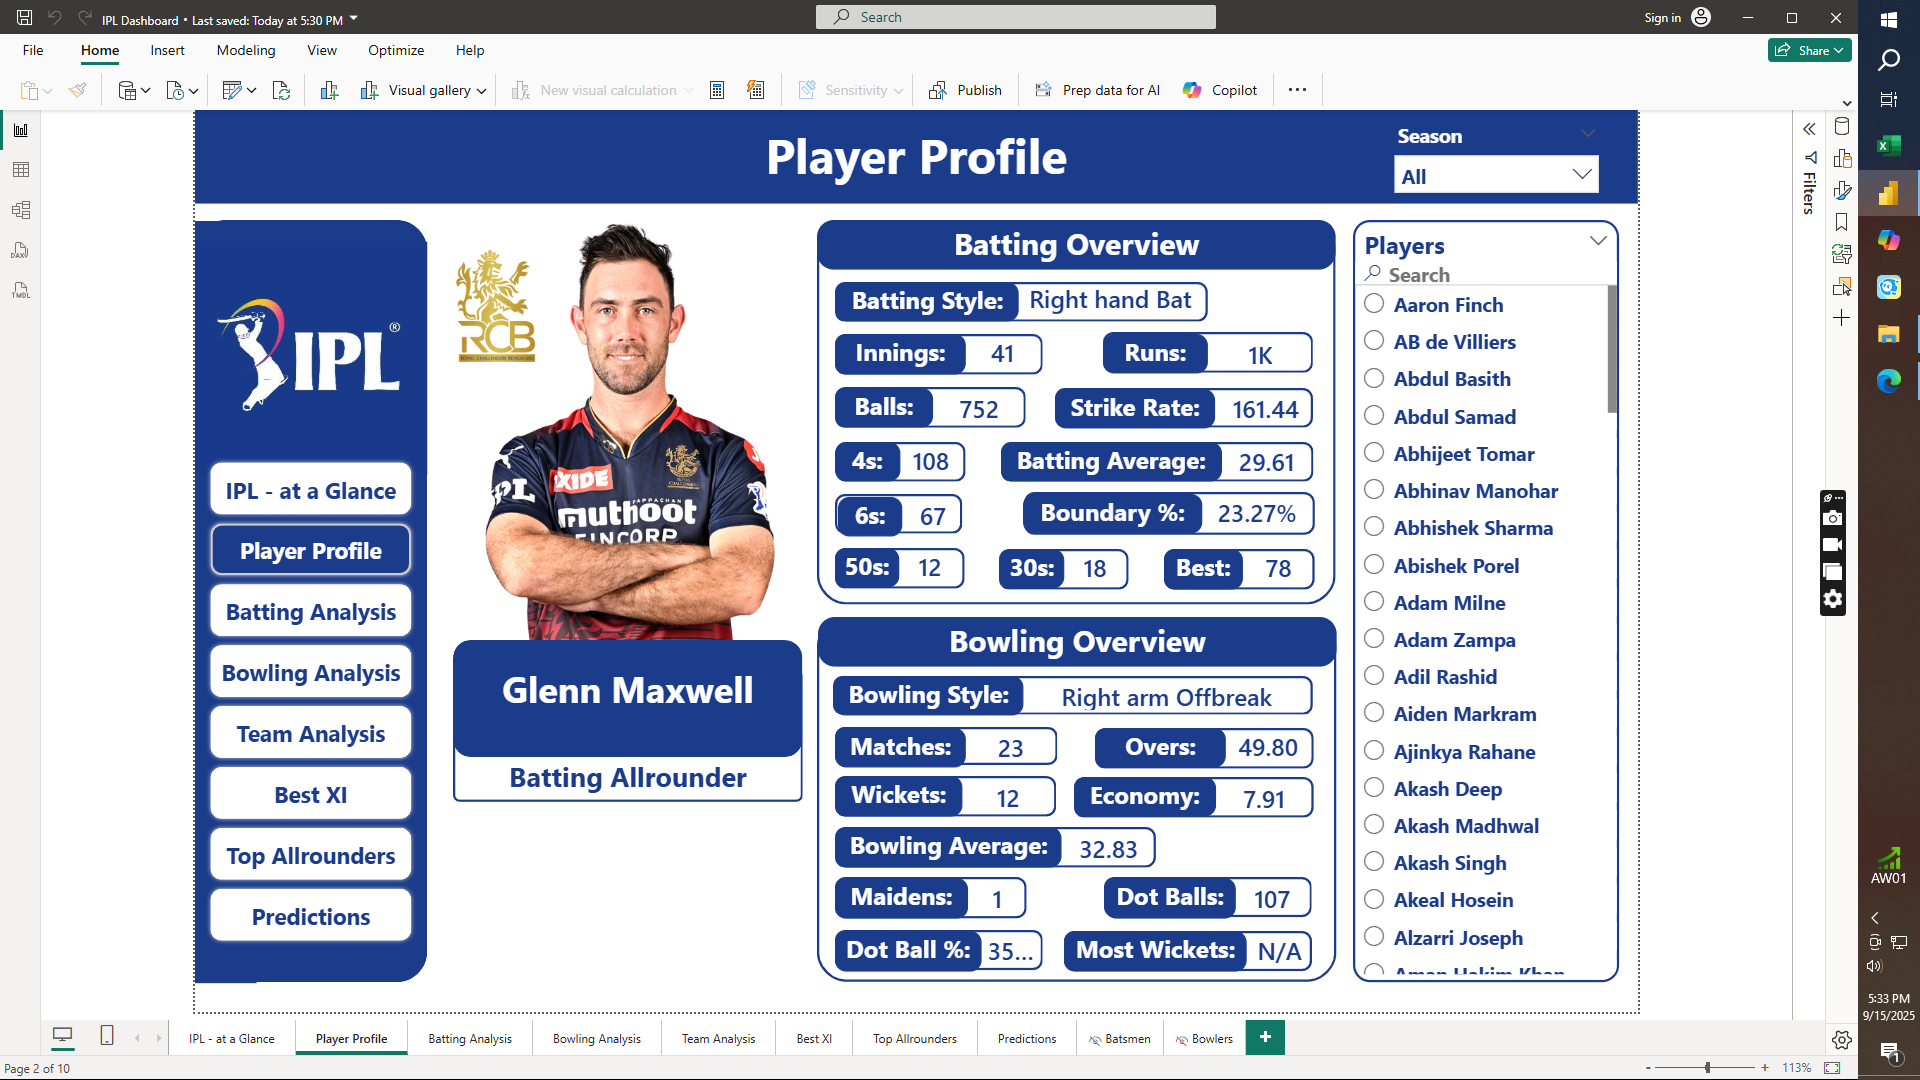

The page's visual inventory and layout, read from the dashboard file:
{"tool":"powerbi","page":{"name":"Player Profile","canvas":[1280,800],"ordinal":1},"visuals":[{"type":"shape","box":[0,0,1279.7,83.1],"z":0,"group":"g22"},{"type":"tableEx","title":"Best Playing XI","fields":{"Values":["dim_players.Image"]},"box":[178.4,67.5,356.8,437.4],"z":0,"group":"g19"},{"type":"cardVisual","fields":{"Data":["Min(dim_players.battingStyle)"]},"box":[726.8,134.9,171.3,66.5],"z":0,"group":"g4"},{"type":"shape","box":[568,152.2,330.6,35.3],"z":0,"group":"g23"},{"type":"textbox","box":[569,152.2,162.3,35.3],"z":0,"group":"g5"},{"type":"cardVisual","fields":{"Data":["CountNonNull(fact_bating_summary.Batsman Name)"]},"box":[681.9,182.5,70.6,65.5],"z":0,"group":"g6"},{"type":"shape","box":[805.9,196.6,186.5,36.3],"z":0,"group":"g12"},{"type":"textbox","box":[805.9,198.6,92.7,35.3],"z":0,"group":"g24"},{"type":"textbox","box":[568,198.7,116.4,35.7],"z":0,"group":"g7"},{"type":"shape","box":[763.5,246.4,228.8,35.3],"z":0,"group":"g20"},{"type":"textbox","box":[763.5,246.8,142.4,35],"z":0,"group":"g25"},{"type":"cardVisual","fields":{"Data":["_Measures.Batting Avg"]},"box":[910.6,288.7,81.1,40],"z":0,"group":"g14"},{"type":"shape","box":[569,293.7,114.9,35.3],"z":0,"group":"g13"},{"type":"textbox","box":[715.1,293.7,195.6,35.3],"z":0,"group":"g8"},{"type":"textbox","box":[568,294.7,57.5,35],"z":0,"group":"g26"},{"type":"shape","box":[568,341.2,112.9,35.3],"z":0,"group":"g27"},{"type":"textbox","box":[734.9,341.2,158.8,35],"z":0,"group":"g15"},{"type":"textbox","box":[570.5,343.2,57,35.3],"z":0,"group":"g9"},{"type":"group","id":"g1","title":"Group 20","box":[713.2,383.4,115,41.8],"z":0,"group":"g29"},{"type":"group","id":"g2","title":"Group 7","box":[714.4,383.4,111.5,41.8],"z":0,"group":"g1"},{"type":"shape","box":[568,388.1,115,36],"z":0,"group":"g10"},{"type":"textbox","box":[568,388.3,57,35.3],"z":0,"group":"g11"},{"type":"textbox","box":[859.7,389.2,69.7,36],"z":0,"group":"g16"},{"type":"textbox","box":[714.4,389.4,57,35.3],"z":0,"group":"g2"},{"type":"group","id":"g3","title":"Group 6","box":[551.3,449.5,461.4,323.5],"z":0},{"type":"textbox","box":[552.3,449.5,460.4,44.3],"z":0,"group":"g3"},{"type":"shape","box":[228.8,470.7,310,103.8],"z":0,"group":"g18"},{"type":"shape","box":[228.8,496.9,310.4,116.9],"z":0,"group":"g17"},{"type":"textbox","box":[566.7,501.8,168,35.3],"z":0,"group":"g21"},{"type":"textbox","box":[568.3,548.3,116.4,34.5],"z":0,"group":"g28"},{"type":"textbox","box":[798,548.4,116.4,35.3],"z":0,"group":"g30"},{"type":"shape","box":[806.7,680.9,184.4,35.6],"z":0,"group":"g31"},{"type":"shape","box":[567.8,727.1,184.4,35.6],"z":0},{"type":"textbox","box":[0,4.9,1279.7,73.2],"z":1000,"group":"g22"},{"type":"tableEx","title":"Team Analysis","fields":{"Values":["dim_players.Team Logo"]},"box":[198.9,82.6,126,160.3],"z":1000,"group":"g19"},{"type":"group","id":"g4","title":"Group 11","box":[569,134.9,329.1,66.5],"z":1000,"group":"g23"},{"type":"group","id":"g5","title":"Group 9","box":[569,152.2,162.3,35.3],"z":1000,"group":"g4"},{"type":"group","id":"g6","title":"Group 10","box":[568,182.5,184.4,65.5],"z":1000,"group":"g12"},{"type":"cardVisual","fields":{"Data":["_Measures.Total Runs"]},"box":[898.6,193.6,93.7,44.3],"z":1000,"group":"g24"},{"type":"group","id":"g7","title":"Group 9","box":[568,198.6,184.4,36],"z":1000,"group":"g6"},{"type":"shape","box":[568,198.6,184.4,36],"z":1000,"group":"g7"},{"type":"cardVisual","fields":{"Data":["_Measures.Strike Rate"]},"box":[908.7,241.8,83.7,40.3],"z":1000,"group":"g25"},{"type":"shape","box":[568,245.4,169.3,36.3],"z":1000,"group":"g20"},{"type":"cardVisual","fields":{"Data":["_Measures.Total Fours"]},"box":[625.5,288.2,55,40],"z":1000,"group":"g26"},{"type":"group","id":"g8","title":"Group 13","box":[715.1,288.7,277.2,40.3],"z":1000,"group":"g13"},{"type":"shape","box":[715.1,293.7,277.2,35.3],"z":1000,"group":"g8"},{"type":"cardVisual","fields":{"Data":["_Measures.Boundary Percentage"]},"box":[893.7,334.7,98.8,40.3],"z":1000,"group":"g15"},{"type":"group","id":"g9","title":"Group 7","box":[570.5,337.2,111.9,41.3],"z":1000,"group":"g27"},{"type":"cardVisual","fields":{"Data":["_Measures.Total Sixes"]},"box":[626.9,337.2,55.4,40.3],"z":1000,"group":"g9"},{"type":"group","id":"g10","title":"Group 21","box":[568,382.3,115,41.8],"z":1000,"group":"g29"},{"type":"group","id":"g11","title":"Group 7","box":[568,382.3,112.7,40.7],"z":1000,"group":"g10"},{"type":"cardVisual","fields":{"Data":["CountNonNull(fact_bating_summary.runs)"]},"box":[624.4,382.3,55.4,40.3],"z":1000,"group":"g11"},{"type":"cardVisual","fields":{"Data":["CountNonNull(fact_bating_summary.runs)"]},"box":[770.8,383.4,55.4,40.3],"z":1000,"group":"g2"},{"type":"cardVisual","fields":{"Data":["Max(fact_bating_summary.runs)"]},"box":[929.4,383.4,63.9,40.7],"z":1000,"group":"g16"},{"type":"shape","box":[713.2,389.2,115,36],"z":1000,"group":"g1"},{"type":"shape","box":[551.3,449.5,460.6,323.5],"z":1000,"group":"g3"},{"type":"card","fields":{"Values":["Min(dim_players.Name)"]},"box":[228.8,461.6,310.4,104.8],"z":1000,"group":"g18"},{"type":"cardVisual","fields":{"Data":["Min(dim_players.bowlingStyle)"]},"box":[733.3,492,257.8,45],"z":1000},{"type":"cardVisual","fields":{"Data":["Sum(fact_bowling_summary.overs)"]},"box":[911.8,542,80.1,39.5],"z":1000,"group":"g30"},{"type":"cardVisual","fields":{"Data":["Count(fact_bowling_summary.match_id)"]},"box":[684.2,543.2,80.1,39.5],"z":1000,"group":"g28"},{"type":"card","fields":{"Values":["Min(dim_players.Role)"]},"box":[228.8,566.4,310.4,47.4],"z":1000,"group":"g17"},{"type":"textbox","box":[807.8,681.5,115.6,35.6],"z":1000,"group":"g31"},{"type":"textbox","box":[567.4,728.7,92.7,35.3],"z":1000},{"type":"group","id":"g12","title":"Group 5","box":[568,182.5,424.3,65.5],"z":2000,"group":"g24"},{"type":"textbox","box":[568,246.4,86.7,35],"z":2000,"group":"g25"},{"type":"group","id":"g13","title":"Group 15","box":[569,288.7,423.3,40.3],"z":2000,"group":"g26"},{"type":"group","id":"g14","title":"Group 2","box":[910.6,288.7,81.6,40.3],"z":2000,"group":"g8"},{"type":"group","id":"g15","title":"Group 8","box":[734.9,334.7,259.2,42.6],"z":2000,"group":"g27"},{"type":"shape","box":[736.1,339.3,258,38],"z":2000,"group":"g15"},{"type":"group","id":"g16","title":"Group 22","box":[859.7,383.4,133.6,41.8],"z":2000,"group":"g29"},{"type":"shape","box":[859.7,389.2,133.6,36],"z":2000,"group":"g16"},{"type":"group","id":"g17","title":"Group 3","box":[228.8,461.6,310.4,152.2],"z":2000,"group":"g19"},{"type":"group","id":"g18","title":"Group 2","box":[228.8,461.6,310.4,112.9],"z":2000,"group":"g17"},{"type":"shape","box":[565.6,502.2,425.6,34.4],"z":2000},{"type":"shape","box":[568,547.8,197.5,33.7],"z":2000,"group":"g28"},{"type":"shape","box":[798,547.8,194,36],"z":2000,"group":"g30"},{"type":"cardVisual","fields":{"Data":["Sum(fact_bowling_summary.0s)"]},"box":[922.3,677.1,68.9,40],"z":2000,"group":"g31"},{"type":"textbox","box":[567.8,681.5,117.8,35.6],"z":2000},{"type":"group","id":"g19","title":"Group 4","box":[178.4,67.5,360.8,546.3],"z":3000},{"type":"cardVisual","fields":{"Data":["Sum(fact_bating_summary.balls)"]},"box":[654.7,241.8,82.6,40.3],"z":3000,"group":"g25"},{"type":"textbox","box":[771.1,728.2,162.2,35.6],"z":3000},{"type":"group","id":"g20","title":"Group 14","box":[568,245.4,424.3,36.3],"z":4000,"group":"g25"},{"type":"group","id":"g21","title":"Group 9","box":[566.7,501.8,168,35.3],"z":4000},{"type":"cardVisual","fields":{"Data":["_Measures.Dot Ball Percentahge"]},"box":[660.2,722.6,91.7,40.3],"z":4000},{"type":"textbox","box":[551.7,97.6,460.4,44.3],"z":5000},{"type":"shape","box":[568,636.1,284.6,36],"z":5000},{"type":"group","id":"g22","title":"Group 1","box":[0,0,1279.7,83.1],"z":6000},{"type":"cardVisual","fields":{"Data":["Max(fact_bowling_summary.wickets)"]},"box":[933.3,722.6,58.9,40],"z":6000},{"type":"shape","box":[551.7,97.6,460,341],"z":7000},{"type":"cardVisual","fields":{"Data":["Sum(fact_bowling_summary.maiden)"]},"box":[685.6,677.1,52.2,40],"z":7000},{"type":"slicer","fields":{"Values":["Finalists.Year"]},"box":[1059,4.9,191,69.3],"z":8000},{"type":"shape","box":[774.7,726,219.5,36],"z":8000},{"type":"shape","box":[0,98,54.6,676],"z":9000},{"type":"textbox","box":[568,590.9,113,35.8],"z":9000},{"type":"shape","box":[0,98,205.9,676],"z":10000},{"type":"shape","box":[567.8,680.4,170,36.7],"z":10000},{"type":"image","box":[0,110.3,205.9,219.7],"z":11000},{"type":"cardVisual","fields":{"Data":["_Measures.Bowling Average"]},"box":[768.9,632.6,83.6,39.5],"z":11000},{"type":"pageNavigator","box":[10,308.9,186.7,437.8],"z":12000},{"type":"textbox","box":[780.1,592.1,125.7,35.3],"z":12000},{"type":"slicer","fields":{"Values":["dim_players.Name"]},"box":[1026.8,97.6,235.8,676],"z":13000},{"type":"textbox","box":[569,636.1,200,35.8],"z":13000},{"type":"group","id":"g23","title":"Group 12","box":[568,134.9,330.6,66.5],"z":14000},{"type":"cardVisual","fields":{"Data":["_Measures.Total Wickets"]},"box":[680.7,587.3,82.5,39.5],"z":14000},{"type":"group","id":"g24","title":"Group 17","box":[568,182.5,424.3,65.5],"z":15000},{"type":"cardVisual","fields":{"Data":["_Measures.Bowler's Economy"]},"box":[904.8,588.5,87.1,39.5],"z":15000},{"type":"group","id":"g25","title":"Group 18","box":[568,241.8,424.3,40.3],"z":16000},{"type":"shape","box":[568,590.8,196.3,36],"z":16000},{"type":"group","id":"g26","title":"Group 19","box":[568,288.2,424.3,41.5],"z":17000},{"type":"shape","box":[779.4,591.9,212.6,36],"z":17000},{"type":"group","id":"g27","title":"Group 16","box":[568,334.7,426.1,43.8],"z":18000},{"type":"group","id":"g28","title":"Group 24","box":[568,543.2,197.5,39.5],"z":18000},{"type":"group","id":"g29","title":"Group 23","box":[568,382.3,425.3,43],"z":19000},{"type":"group","id":"g30","title":"Group 25","box":[798,542,194,41.8],"z":19000},{"type":"group","id":"g31","title":"Group 26","box":[806.7,677.1,184.4,40],"z":20000},{"type":"shape","box":[216.7,97.8,795.6,702.2],"z":20001}]}

Visuals, with their boxes on the page's 1280x800 design canvas (x1, y1, x2, y2). These are canvas units, not pixel positions in the 1920x1080 screenshot, which may show the page scaled, cropped or inside an application window:
shape: 0 0 1280 83
"Best Playing XI" tableEx: 178 68 535 505
cardVisual - Min(dim_players.battingStyle): 727 135 898 201
shape: 568 152 899 188
textbox: 569 152 731 188
cardVisual - CountNonNull(fact_bating_summary.Batsman Name): 682 182 752 248
shape: 806 197 992 233
textbox: 806 199 899 234
textbox: 568 199 684 234
shape: 764 246 992 282
textbox: 764 247 906 282
cardVisual - _Measures.Batting Avg: 911 289 992 329
shape: 569 294 684 329
textbox: 715 294 911 329
textbox: 568 295 626 330
shape: 568 341 681 376
textbox: 735 341 894 376
textbox: 570 343 628 378
"Group 20" group: 713 383 828 425
"Group 7" group: 714 383 826 425
shape: 568 388 683 424
textbox: 568 388 625 424
textbox: 860 389 929 425
textbox: 714 389 771 425
"Group 6" group: 551 450 1013 773
textbox: 552 450 1013 494
shape: 229 471 539 574
shape: 229 497 539 614
textbox: 567 502 735 537
textbox: 568 548 685 583
textbox: 798 548 914 584
shape: 807 681 991 716
shape: 568 727 752 763
textbox: 0 5 1280 78
"Team Analysis" tableEx: 199 83 325 243
"Group 11" group: 569 135 898 201
"Group 9" group: 569 152 731 188
"Group 10" group: 568 182 752 248
cardVisual - _Measures.Total Runs: 899 194 992 238
"Group 9" group: 568 199 752 235
shape: 568 199 752 235
cardVisual - _Measures.Strike Rate: 909 242 992 282
shape: 568 245 737 282
cardVisual - _Measures.Total Fours: 626 288 680 328
"Group 13" group: 715 289 992 329
shape: 715 294 992 329
cardVisual - _Measures.Boundary Percentage: 894 335 992 375
"Group 7" group: 570 337 682 378
cardVisual - _Measures.Total Sixes: 627 337 682 378
"Group 21" group: 568 382 683 424
"Group 7" group: 568 382 681 423
cardVisual - CountNonNull(fact_bating_summary.runs): 624 382 680 423
cardVisual - CountNonNull(fact_bating_summary.runs): 771 383 826 424
cardVisual - Max(fact_bating_summary.runs): 929 383 993 424
shape: 713 389 828 425
shape: 551 450 1012 773
card - Min(dim_players.Name): 229 462 539 566
cardVisual - Min(dim_players.bowlingStyle): 733 492 991 537
cardVisual - Sum(fact_bowling_summary.overs): 912 542 992 582
cardVisual - Count(fact_bowling_summary.match_id): 684 543 764 583
card - Min(dim_players.Role): 229 566 539 614
textbox: 808 682 923 717
textbox: 567 729 660 764
"Group 5" group: 568 182 992 248
textbox: 568 246 655 281
"Group 15" group: 569 289 992 329
"Group 2" group: 911 289 992 329
"Group 8" group: 735 335 994 377
shape: 736 339 994 377
"Group 22" group: 860 383 993 425
shape: 860 389 993 425
"Group 3" group: 229 462 539 614
"Group 2" group: 229 462 539 574
shape: 566 502 991 537
shape: 568 548 766 582
shape: 798 548 992 584
cardVisual - Sum(fact_bowling_summary.0s): 922 677 991 717
textbox: 568 682 686 717
"Group 4" group: 178 68 539 614
cardVisual - Sum(fact_bating_summary.balls): 655 242 737 282
textbox: 771 728 933 764
"Group 14" group: 568 245 992 282
"Group 9" group: 567 502 735 537
cardVisual - _Measures.Dot Ball Percentahge: 660 723 752 763
textbox: 552 98 1012 142
shape: 568 636 853 672
"Group 1" group: 0 0 1280 83
cardVisual - Max(fact_bowling_summary.wickets): 933 723 992 763
shape: 552 98 1012 439
cardVisual - Sum(fact_bowling_summary.maiden): 686 677 738 717
slicer - Finalists.Year: 1059 5 1250 74
shape: 775 726 994 762
shape: 0 98 55 774
textbox: 568 591 681 627
shape: 0 98 206 774
shape: 568 680 738 717
image: 0 110 206 330
cardVisual - _Measures.Bowling Average: 769 633 852 672
pageNavigator: 10 309 197 747
textbox: 780 592 906 627
slicer - dim_players.Name: 1027 98 1263 774
textbox: 569 636 769 672
"Group 12" group: 568 135 899 201
cardVisual - _Measures.Total Wickets: 681 587 763 627
"Group 17" group: 568 182 992 248
cardVisual - _Measures.Bowler's Economy: 905 588 992 628
"Group 18" group: 568 242 992 282
shape: 568 591 764 627
"Group 19" group: 568 288 992 330
shape: 779 592 992 628
"Group 16" group: 568 335 994 378
"Group 24" group: 568 543 766 583
"Group 23" group: 568 382 993 425
"Group 25" group: 798 542 992 584
"Group 26" group: 807 677 991 717
shape: 217 98 1012 800
